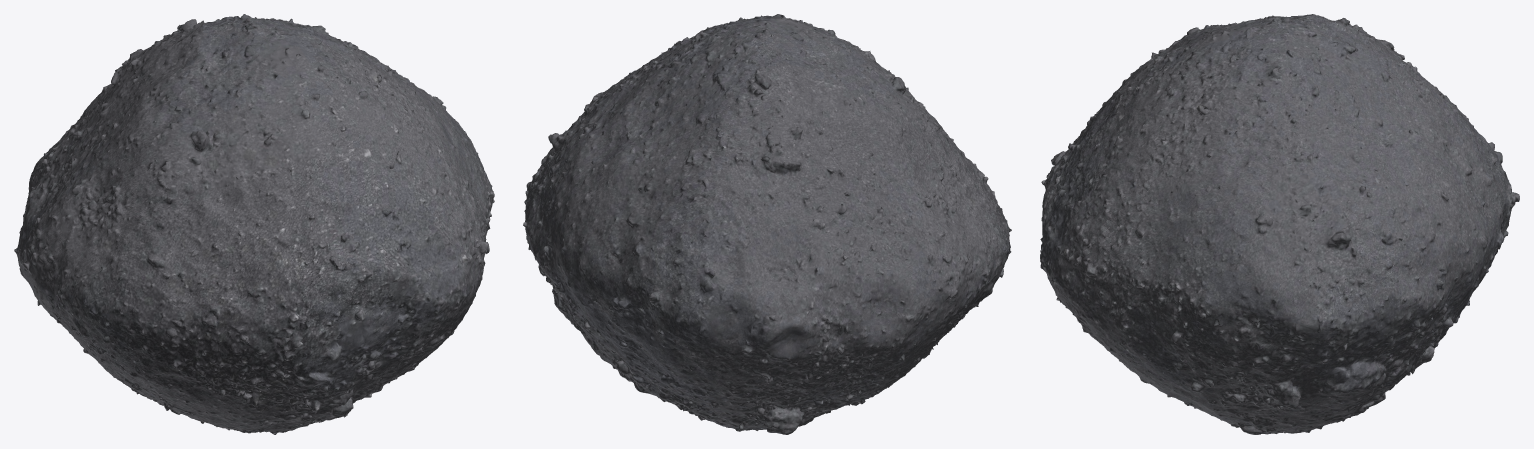
File: bennu.glb
3 renders of one model, left to right at view 1: azimuth 30°, elevation 25°; view 2: azimuth 150°, elevation 25°; view 3: azimuth 270°, elevation 25°, orthographic.
Bounding box in the file's own units: 2 × 1.76 × 1.92.
1 material, 1 textured.
